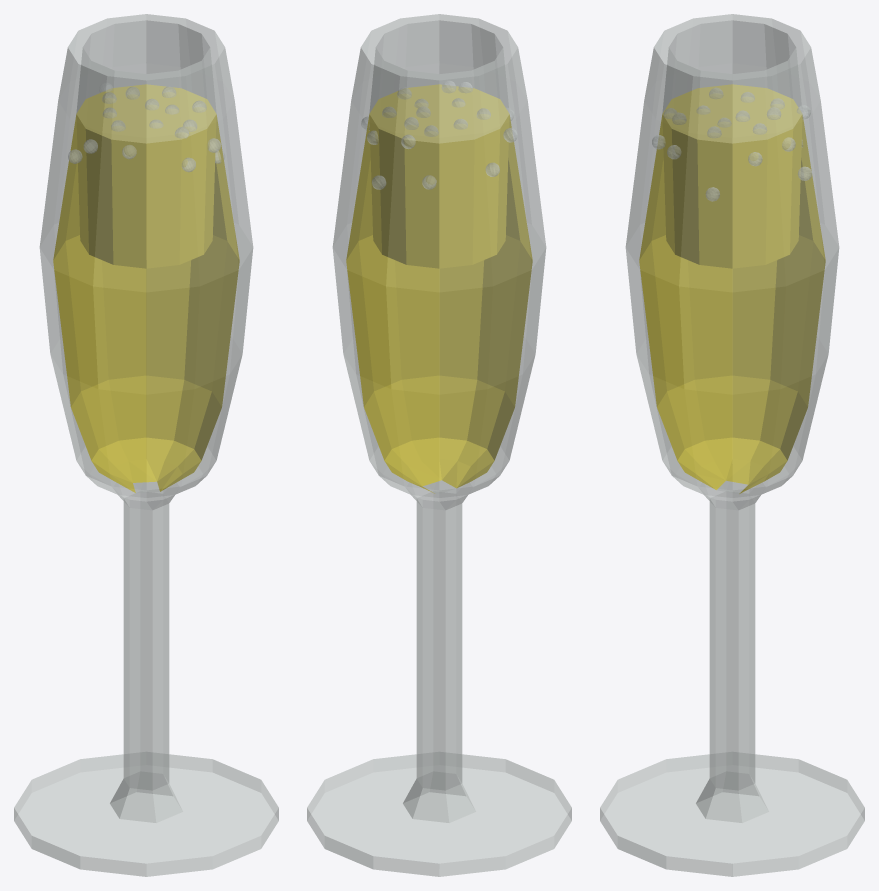
The model's file is Champagne Glass.glb.
The picture shows the model from 3 angles, left to right: view 1: azimuth 30°, elevation 25°; view 2: azimuth 150°, elevation 25°; view 3: azimuth 270°, elevation 25°; orthographic projection.
Visible parts, largest first — view 1: Node; view 2: Node; view 3: Node.
Boxes of the visible parts, bbox=[...] form: Node: bbox=[14, 14, 278, 876]; Node: bbox=[307, 14, 571, 876]; Node: bbox=[600, 14, 864, 876].
Bounding box in the file's own units: 0.18 × 0.58 × 0.18.
